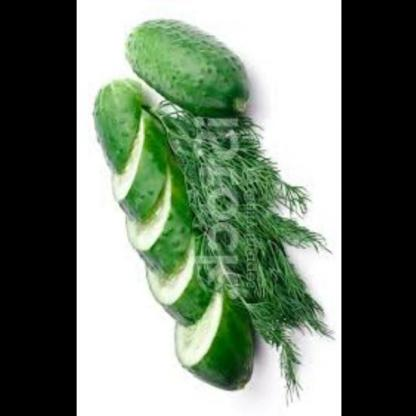cucumber: (88, 78, 242, 408), (111, 4, 257, 125)
